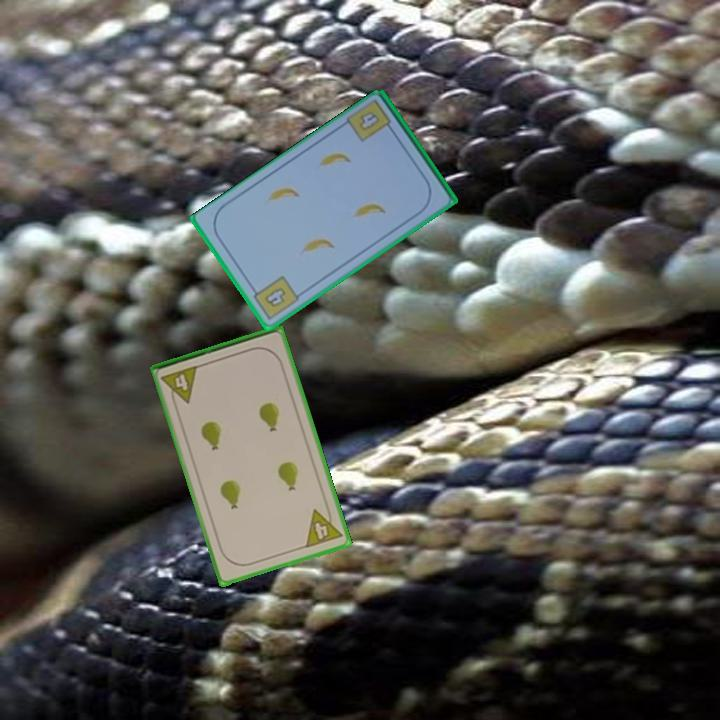4b: (248, 272, 302, 323), (355, 108, 383, 134)
4p: (302, 502, 345, 551), (158, 362, 201, 409)
